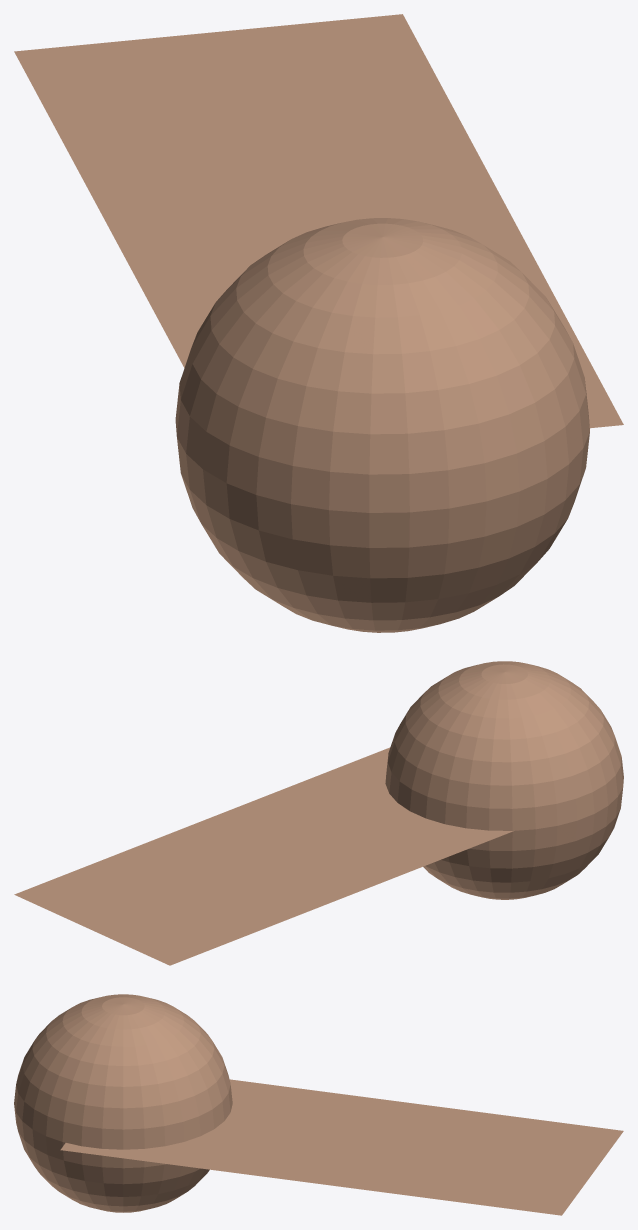
The model's file is seedstage_maple.glb.
3 views of the same model, one above another, from view 1: azimuth 30°, elevation 25°; view 2: azimuth 150°, elevation 25°; view 3: azimuth 270°, elevation 25° (orthographic). The views are drawn at different scales.
Visible parts, largest first — view 1: MapleSeed_Center.002, MapleSeed_Body.002; view 2: MapleSeed_Body.002, MapleSeed_Center.002; view 3: MapleSeed_Body.002, MapleSeed_Center.002.
Part boxes in pixels (x1,y1,x2,y2): MapleSeed_Center.002: [175, 218, 589, 632]; MapleSeed_Body.002: [14, 14, 623, 428]; MapleSeed_Body.002: [14, 747, 513, 965]; MapleSeed_Center.002: [385, 661, 623, 899]; MapleSeed_Body.002: [60, 1079, 623, 1215]; MapleSeed_Center.002: [14, 994, 232, 1212].
Size of the model in its own units: 0.0857 by 0.05 by 0.1394.
